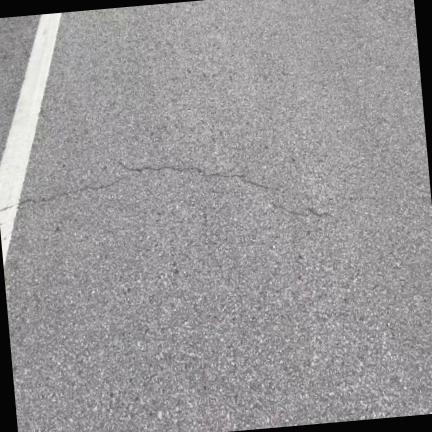Road: (4, 0, 431, 431)
